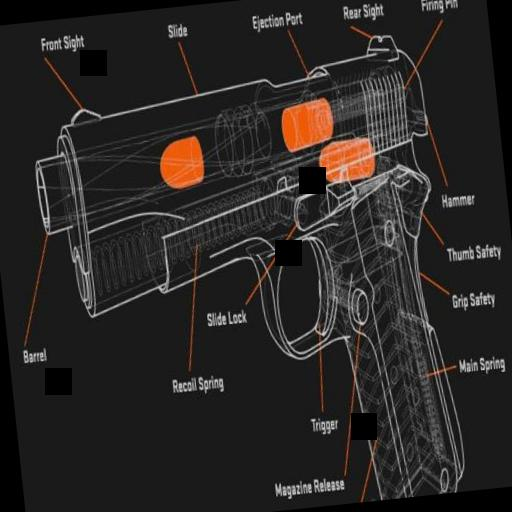Handgun: (23, 27, 470, 512)
